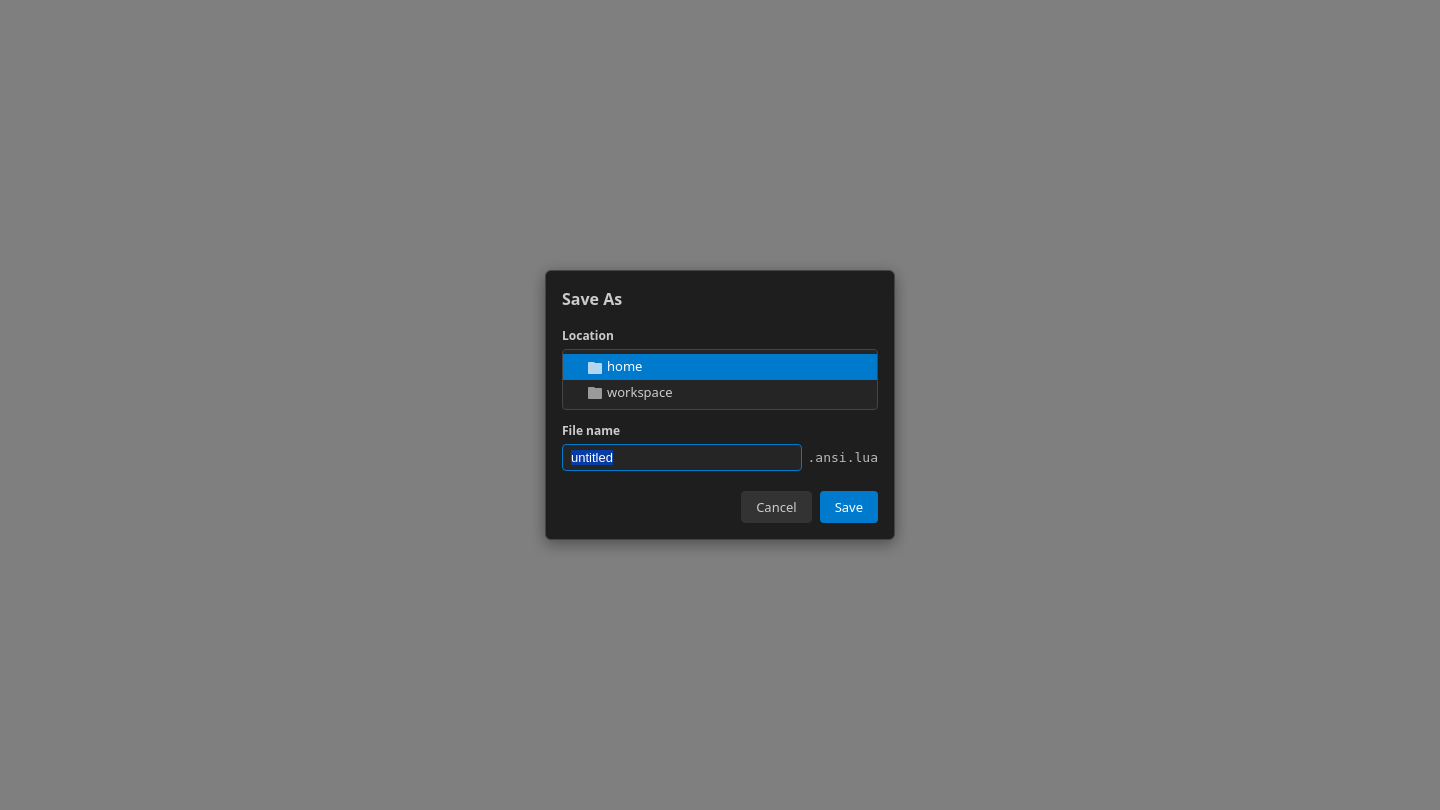
Scenario: SaveAsDialog › should clear error when filename changes
The width and height of the screenshot is (1440, 810).
Clear the field with test id "save-as-filename" at (682, 458), box [562,444,802,471]
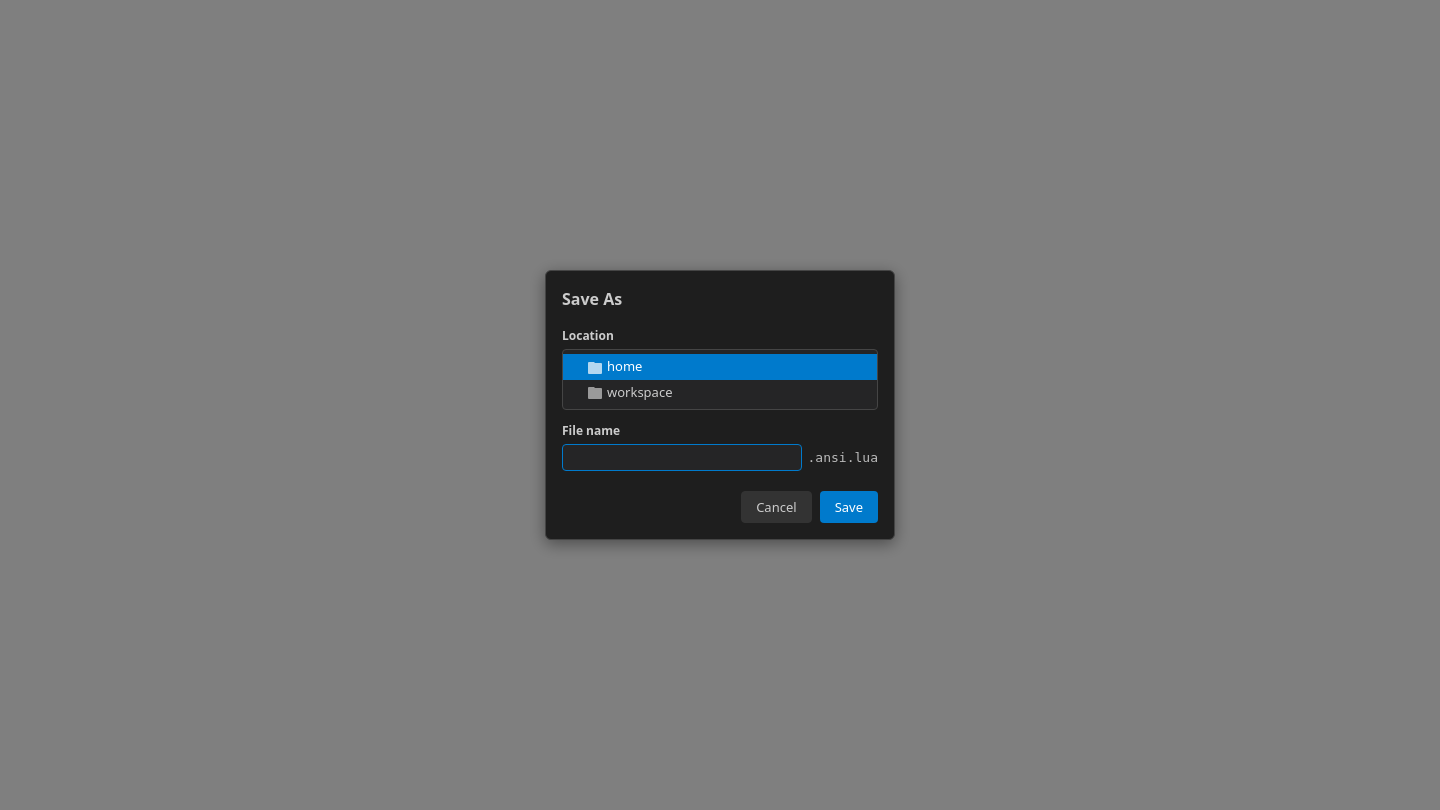
Click the button with test id "save-as-save" at (849, 507), box [820,491,878,523]
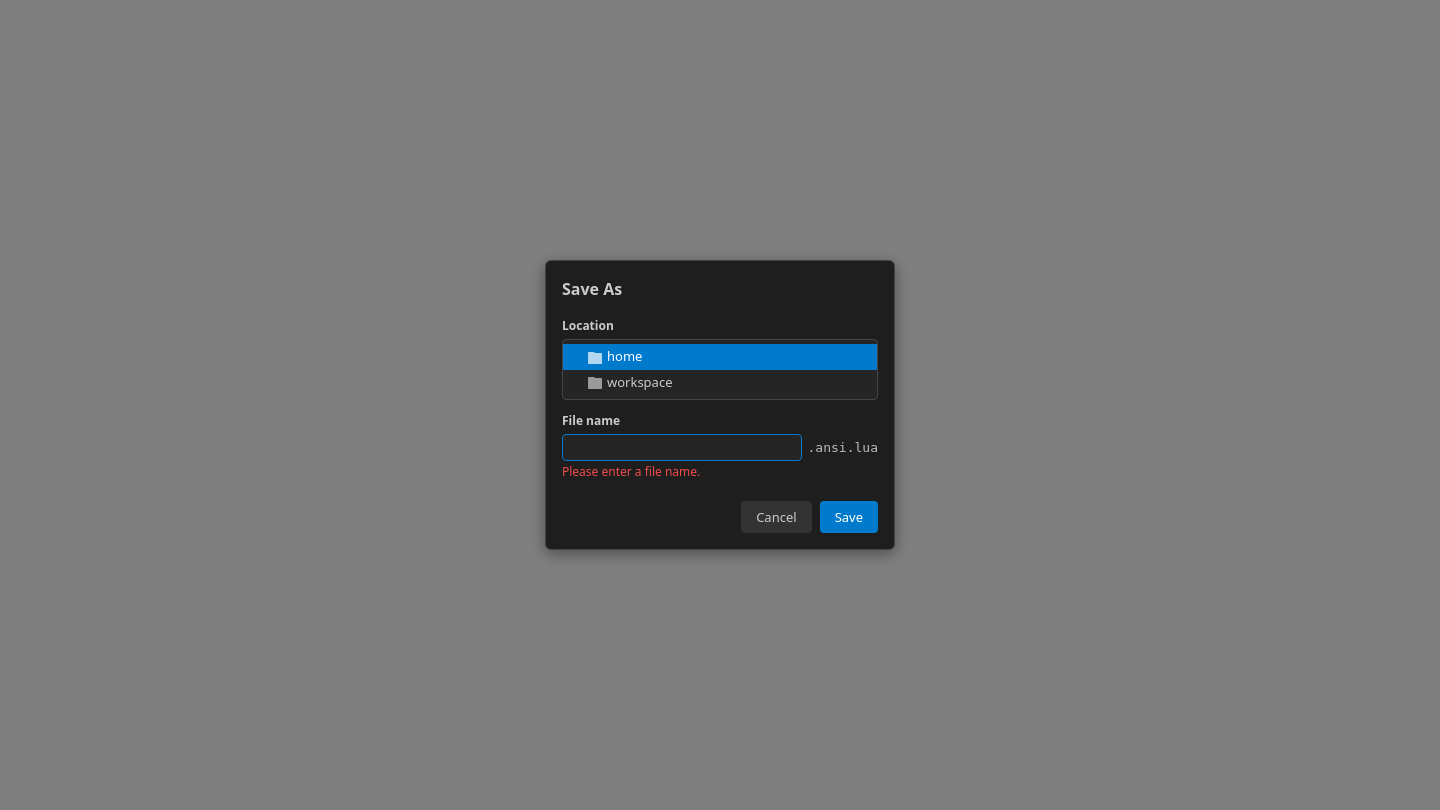
Now the text "Please enter a file name." is shown, box [562,463,700,480]
Type "a" into the field with test id "save-as-filename" at (682, 448), box [562,434,802,461]
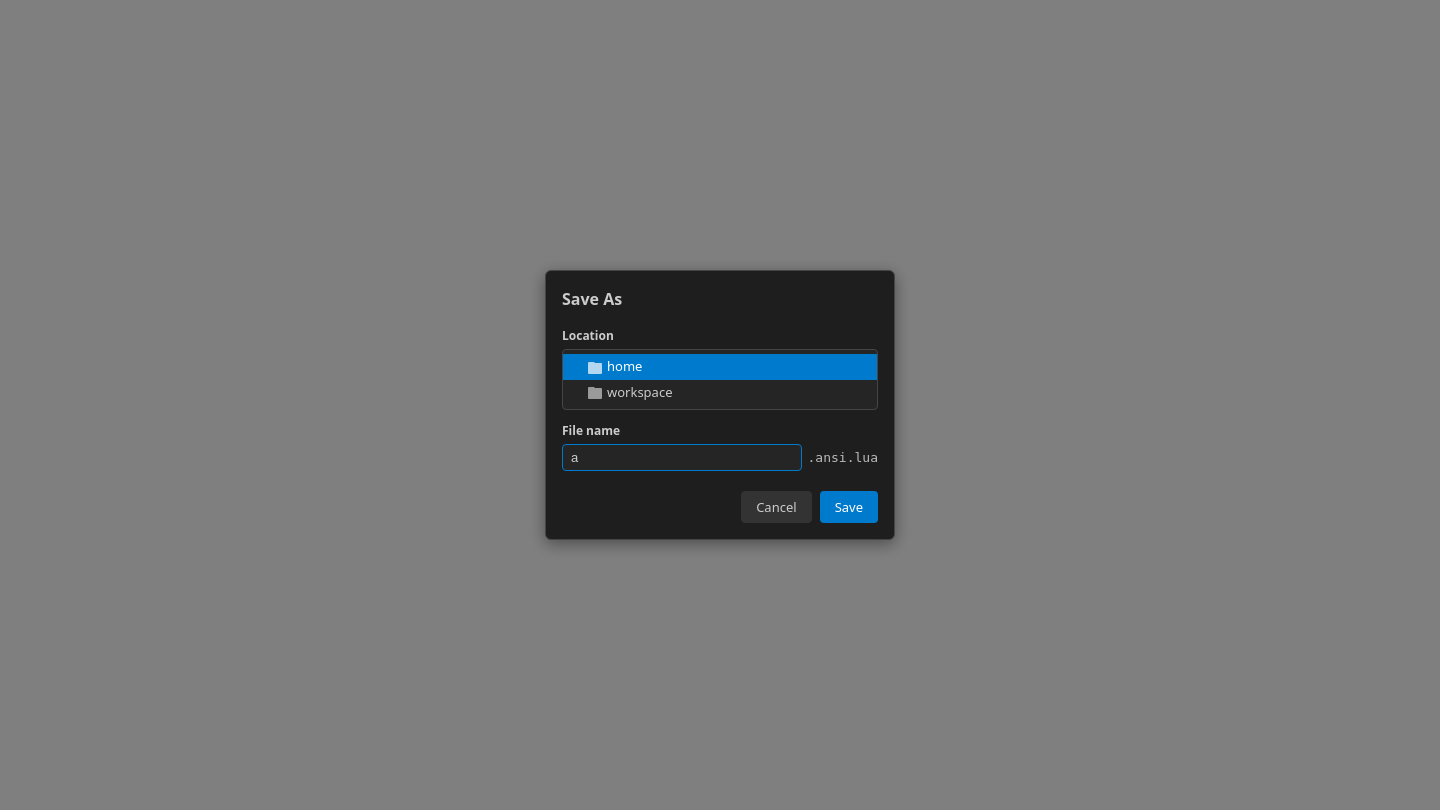
Now the text with test id "save-as-error" is gone
